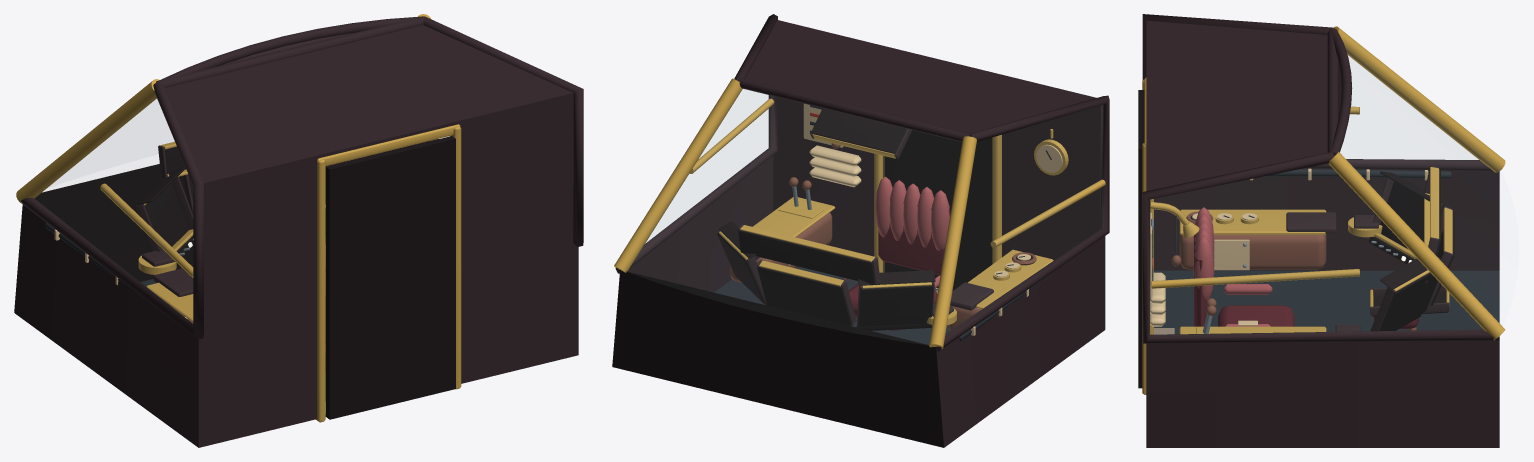
The model's file is manatee.glb.
The picture shows the model from 3 angles, left to right: view 1: azimuth 30°, elevation 25°; view 2: azimuth 150°, elevation 25°; view 3: azimuth 270°, elevation 25°; orthographic projection. The views are drawn at different scales.
Parts seen in each view (by area): view 1: Aft bulkhead - Frame, Roof - Frame, door, Forward shell - Frame, Forward shell - Panel, Aft bulkhead - Trim, Forward shell - Trim, Instrument housings - Panel, Instrument housings - Frame, Ship fittings - Trim, Accessory mounts - Frame; view 2: Forward shell - Frame, Forward shell - Panel, Roof - Frame, Aft bulkhead - Frame, Instrument housings - Panel, Forward shell - Trim, door, Ship fittings - Upholstery, Ship fittings - Trim, Instrument housings - Trim, Pilot chair - Leather, Aft bulkhead - Trim (+7 smaller); view 3: Forward shell - Frame, Roof - Frame, Deck - Rubber, Forward shell - Trim, Instrument housings - Panel, Ship fittings - Wood, Ship fittings - Trim, Pilot chair - Leather, Instrument housings - Trim, Instrument housings - Frame, door, Accessory mounts - Frame (+8 smaller).
Boxes of the visible parts, left/top/right/bottom form: Aft bulkhead - Frame: left=198, top=93, right=578, bottom=447; Roof - Frame: left=156, top=16, right=572, bottom=182; door: left=326, top=136, right=455, bottom=419; Forward shell - Frame: left=14, top=16, right=583, bottom=447; Forward shell - Panel: left=35, top=151, right=388, bottom=281; Aft bulkhead - Trim: left=316, top=124, right=461, bottom=422; Forward shell - Trim: left=16, top=14, right=430, bottom=277; Instrument housings - Panel: left=134, top=146, right=378, bottom=256; Instrument housings - Frame: left=135, top=145, right=382, bottom=251; Ship fittings - Trim: left=138, top=255, right=193, bottom=322; Accessory mounts - Frame: left=142, top=249, right=193, bottom=296; Forward shell - Frame: left=615, top=14, right=1109, bottom=447; Forward shell - Panel: left=612, top=270, right=943, bottom=447; Roof - Frame: left=737, top=20, right=1096, bottom=141; Aft bulkhead - Frame: left=773, top=97, right=1100, bottom=272; Instrument housings - Panel: left=717, top=108, right=935, bottom=330; Forward shell - Trim: left=614, top=78, right=1105, bottom=349; door: left=884, top=130, right=992, bottom=290; Ship fittings - Upholstery: left=875, top=176, right=949, bottom=250; Ship fittings - Trim: left=753, top=197, right=1053, bottom=325; Instrument housings - Trim: left=719, top=134, right=931, bottom=288; Pilot chair - Leather: left=849, top=198, right=950, bottom=317; Aft bulkhead - Trim: left=874, top=134, right=1001, bottom=272; Forward shell - Frame: left=1142, top=14, right=1499, bottom=447; Roof - Frame: left=1146, top=20, right=1337, bottom=191; Deck - Rubber: left=1154, top=270, right=1499, bottom=334; Forward shell - Trim: left=1151, top=26, right=1505, bottom=340; Instrument housings - Panel: left=1369, top=169, right=1454, bottom=330; Ship fittings - Wood: left=1179, top=234, right=1326, bottom=269; Ship fittings - Trim: left=1179, top=209, right=1382, bottom=334; Pilot chair - Leather: left=1194, top=234, right=1294, bottom=326; Instrument housings - Trim: left=1370, top=167, right=1452, bottom=307; Instrument housings - Frame: left=1370, top=165, right=1452, bottom=331; door: left=1138, top=90, right=1144, bottom=388; Accessory mounts - Frame: left=1286, top=212, right=1427, bottom=331.
Size of the model in its own units: 2.59 by 1.85 by 2.29.
